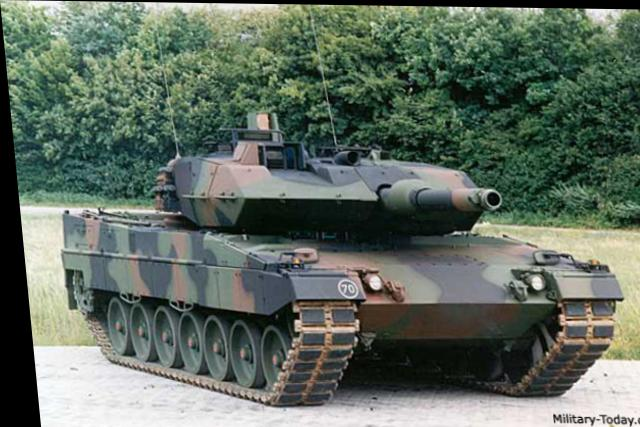tank: (38, 115, 624, 401)
